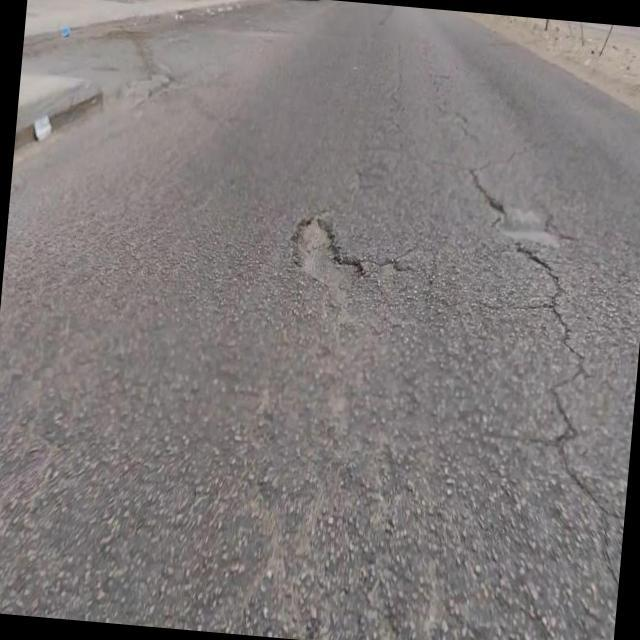Pothole: (288, 215, 366, 290)
